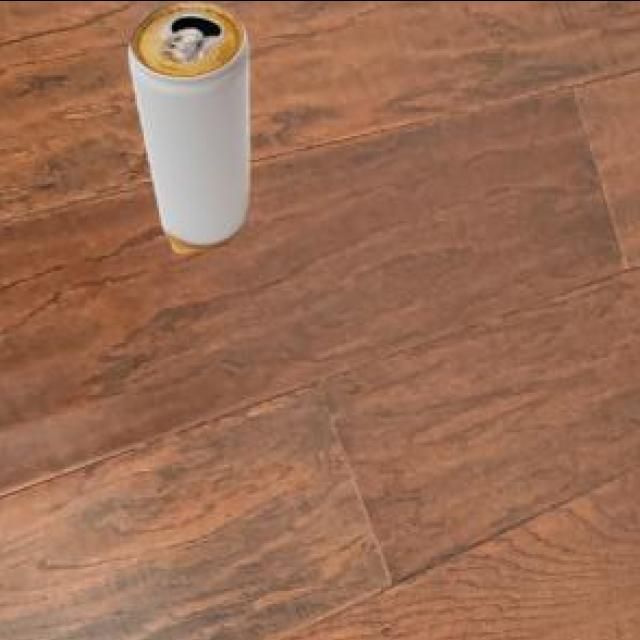logam: (132, 0, 254, 249)
